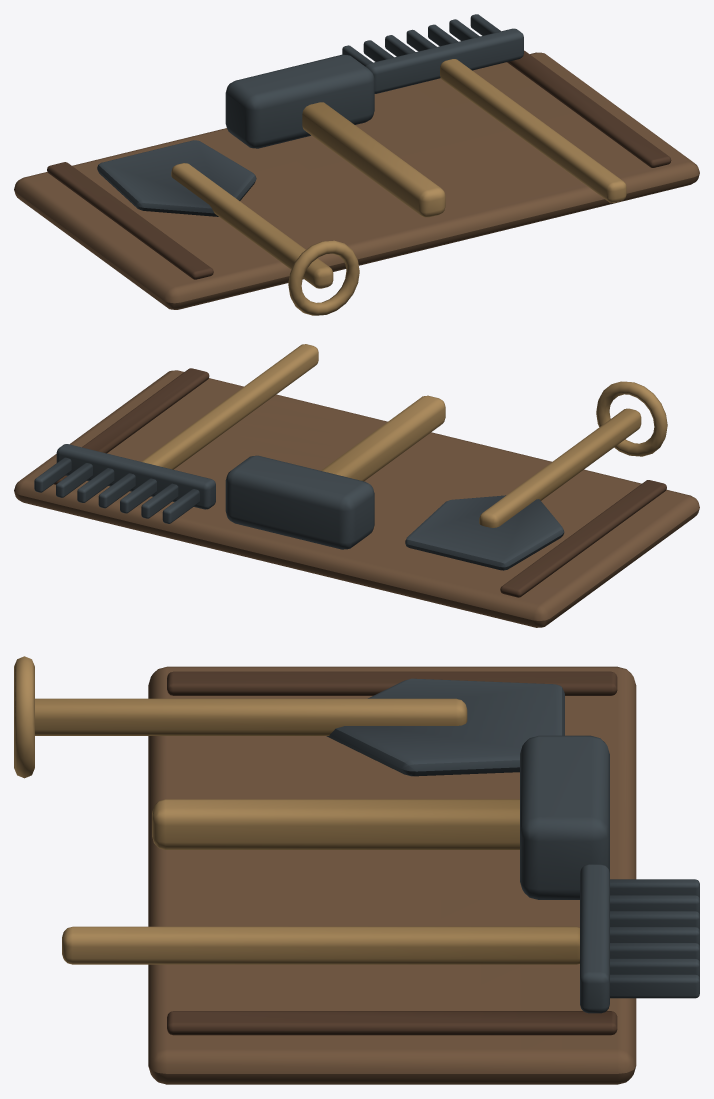
The model's file is fw_tools_garden.hi.glb.
3 renders of one model, top to bottom at view 1: azimuth 30°, elevation 25°; view 2: azimuth 150°, elevation 25°; view 3: azimuth 270°, elevation 25°, orthographic. The views are drawn at different scales.
Parts seen in each view (by area): view 1: body; view 2: body; view 3: body.
Part boxes in pixels (x1,y1,x2,y2): body: (14, 14, 699, 315); body: (14, 344, 699, 627); body: (14, 656, 699, 1084).
Size of the model in its own units: 1.25 by 0.172 by 0.914.
